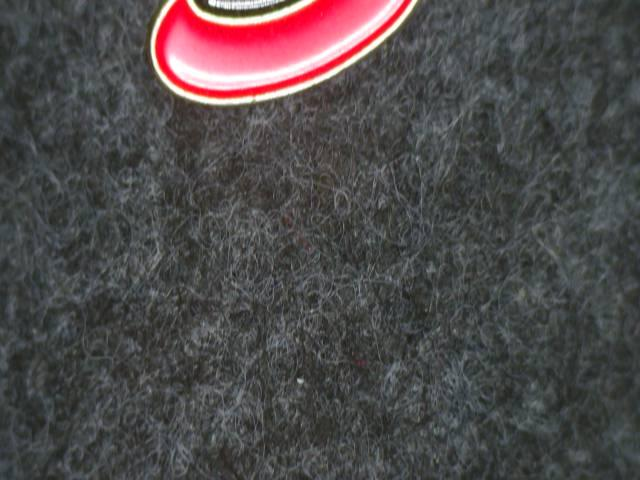Red-Hat: (141, 0, 449, 131)
